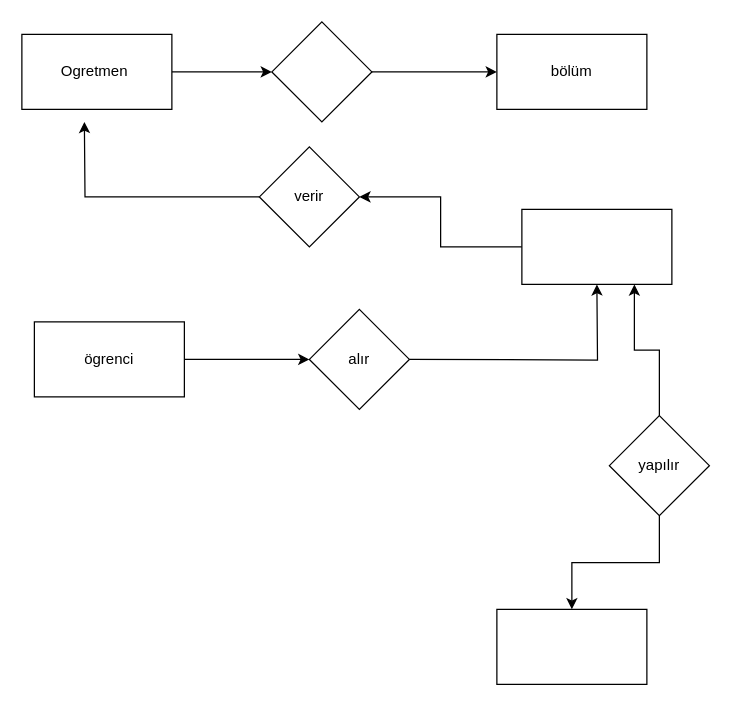
The diagram is 731 pixels wide and 706 high, and some of its shapes have lost their labels. The centre of each missing label's shape, as x and y in pixels:
"ders" goes at point (596, 246).
"görev yapar" goes at point (321, 71).
"sınıf" goes at point (571, 646).
